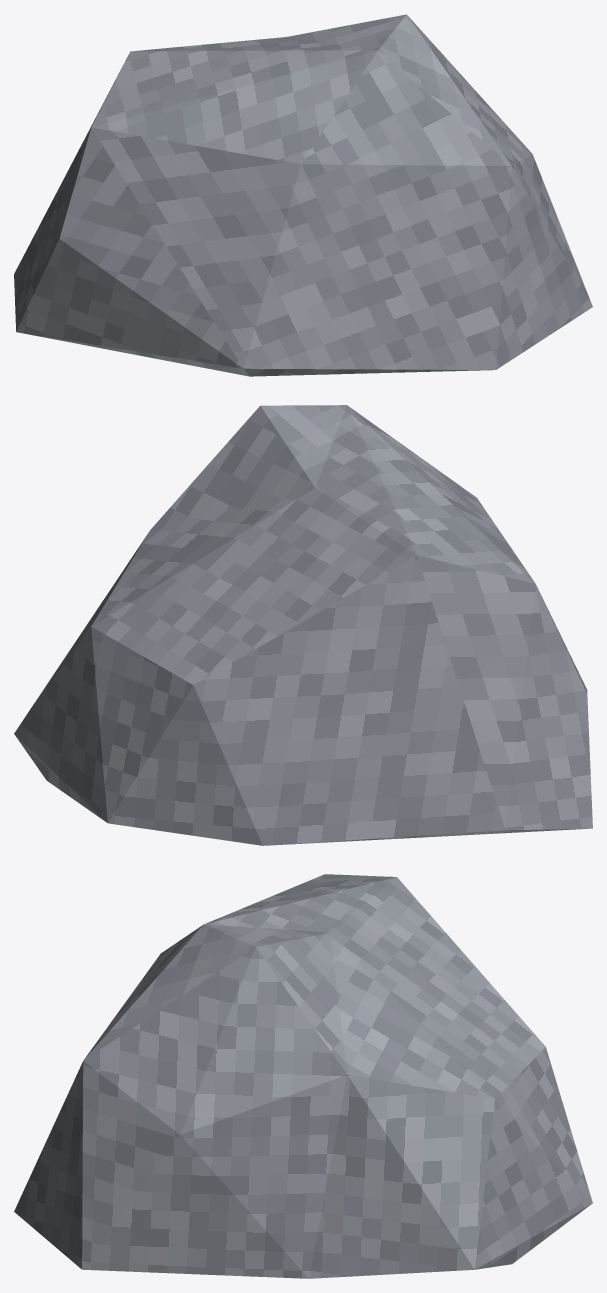
File: Stone_3.fbx
3 views of the same model, one above another, from view 1: azimuth 30°, elevation 25°; view 2: azimuth 150°, elevation 25°; view 3: azimuth 270°, elevation 25° (orthographic). The views are drawn at different scales.
Visible parts, largest first — view 1: Stone.002; view 2: Stone.002; view 3: Stone.002.
Boxes of the visible parts, x1,y1,x2,y2 form: Stone.002: (14,14,592,376); Stone.002: (14,405,592,845); Stone.002: (14,874,592,1278).
Size of the model in its own units: 0.9549 by 0.9824 by 0.5254.
1 material, 1 textured.
